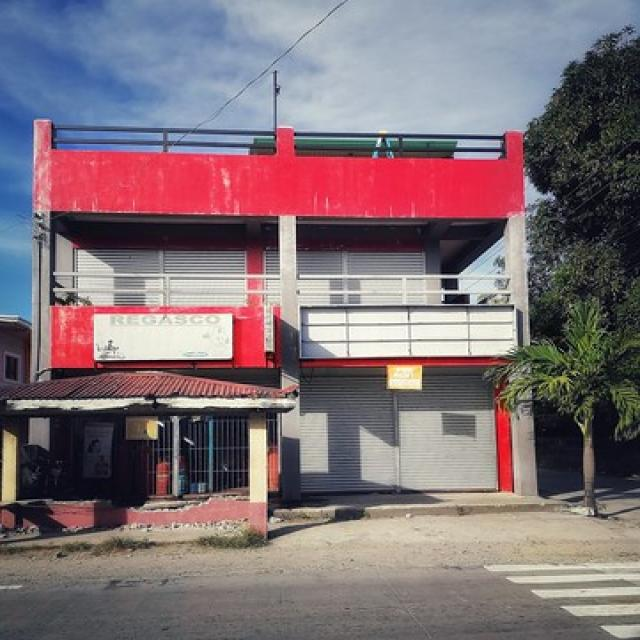Normal_building: (10, 113, 542, 545)
